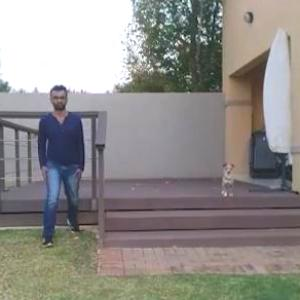follow: (37, 83, 85, 238)
